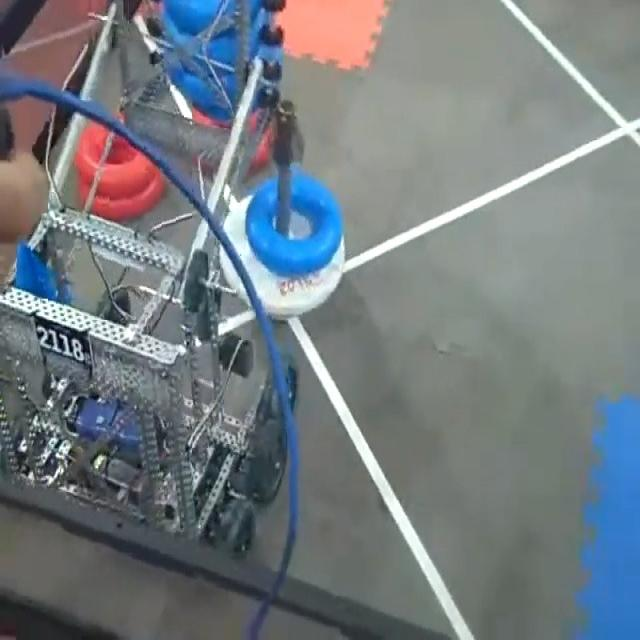Blue-Ring: (245, 167, 342, 277), (166, 0, 269, 41)
Red-Ring: (75, 123, 158, 204), (79, 173, 164, 221)
